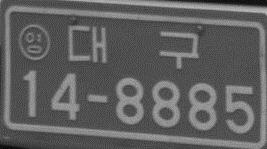-: (84, 88, 110, 112)
1: (18, 70, 46, 119)
4: (49, 72, 80, 120)
5: (223, 84, 254, 134)
8: (187, 81, 217, 132), (114, 76, 145, 125), (151, 79, 181, 128)
대구_D: (66, 23, 200, 69)
영: (16, 22, 50, 61)
